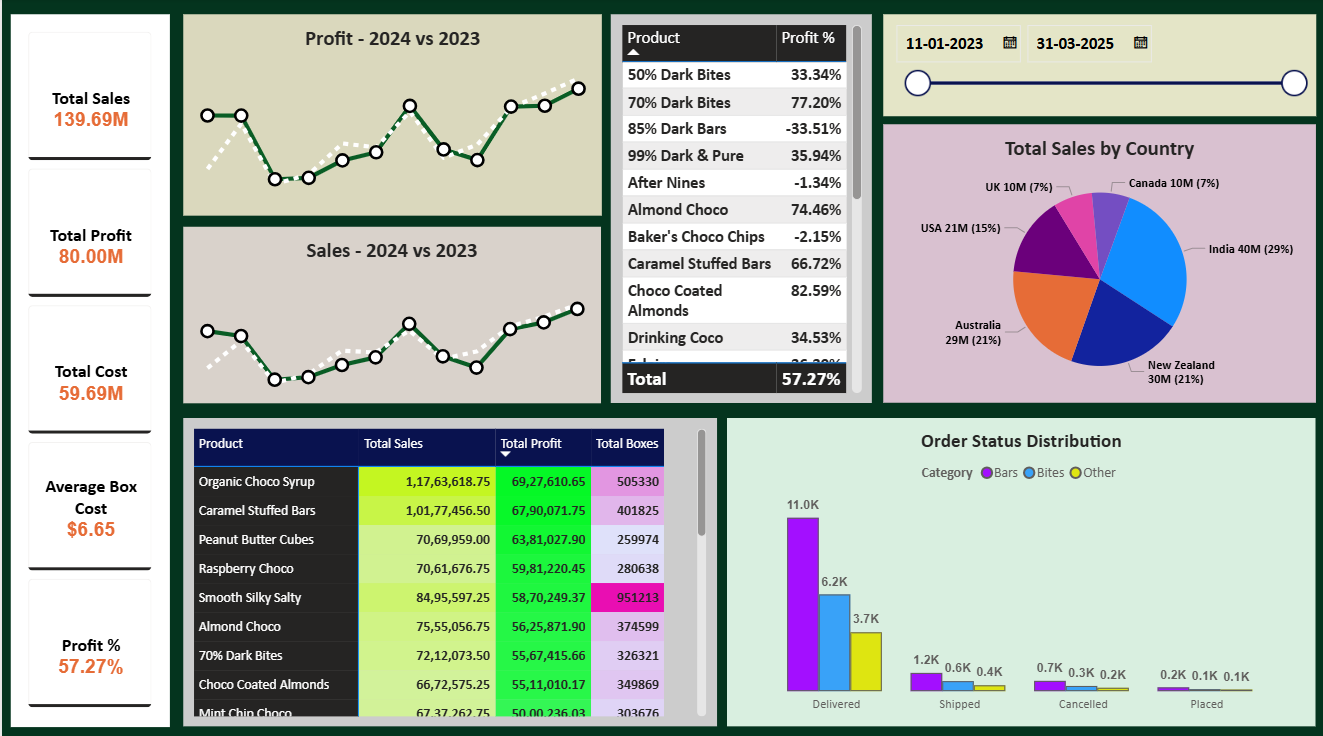

The dashboard page shown, as its layout file describes it:
{"tool":"powerbi","page":{"name":"Page 1","canvas":[1280,720],"ordinal":0},"visuals":[{"type":"cardVisual","fields":{"Data":["shipments.Total Amount","shipments.Total Profit","shipments.Total Cost","Avg(products.Cost Per Box)","shipments.Profit %"]},"box":[8.4,15.7,153.2,687.7],"z":0},{"type":"lineChart","title":"Sales - 2024 vs 2023","fields":{"Series":["calendar.Year"],"Category":["calendar.Date.Variation.Date Hierarchy.Month"],"Y":["shipments.Total Sales"]},"box":[174.9,220.8,403,170.1],"z":1000},{"type":"lineChart","title":"Profit - 2024 vs 2023","fields":{"Series":["calendar.Year"],"Category":["calendar.Date.Variation.Date Hierarchy.Month"],"Y":["shipments.Total Profit"]},"box":[174.9,15.7,404.2,194.2],"z":2000},{"type":"pieChart","fields":{"Category":["locations.Country"],"Y":["shipments.Total Sales"]},"box":[850.5,121.9,417.4,269],"z":3000},{"type":"tableEx","fields":{"Values":["products.Product","shipments.Profit %"]},"box":[587.5,15.7,252.1,375.2],"z":4000},{"type":"pivotTable","fields":{"Values":["shipments.Total Sales","shipments.Total Profit","Sum(shipments.Boxes)"],"Rows":["products.Product"]},"box":[174.9,405.4,515.2,298],"z":5000},{"type":"clusteredColumnChart","title":"Order Status Distribution","fields":{"Category":["shipments.Order Status"],"Y":["shipments.Shipment Count"],"Series":["products.Category"]},"box":[699.7,405.4,568.2,298],"z":6000},{"type":"slicer","fields":{"Values":["calendar.Date"]},"box":[850.5,15.7,417.4,97.7],"z":7000}]}

Visuals, with their boxes in screenshot pixels (x1, y1, x2, y2), scaled from the page's 1280x720 canvas onto the 1323x736 screenshot:
cardVisual - shipments.Total Amount x shipments.Total Profit: x1=9 y1=16 x2=167 y2=719
"Sales - 2024 vs 2023" lineChart: x1=181 y1=226 x2=597 y2=400
"Profit - 2024 vs 2023" lineChart: x1=181 y1=16 x2=599 y2=215
pieChart - locations.Country x shipments.Total Sales: x1=879 y1=125 x2=1310 y2=400
tableEx - products.Product x shipments.Profit %: x1=607 y1=16 x2=868 y2=400
pivotTable - shipments.Total Sales x shipments.Total Profit: x1=181 y1=414 x2=713 y2=719
"Order Status Distribution" clusteredColumnChart: x1=723 y1=414 x2=1310 y2=719
slicer - calendar.Date: x1=879 y1=16 x2=1310 y2=116
